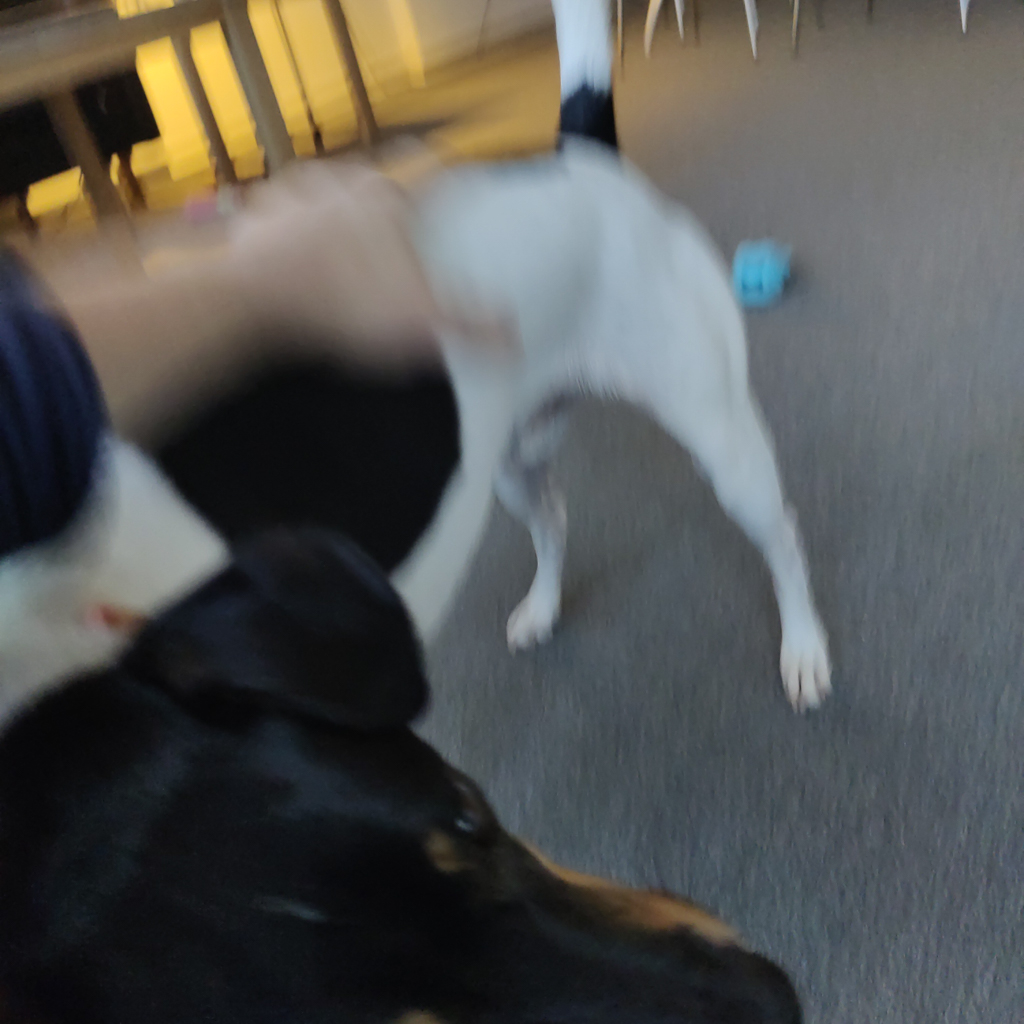Dog: (0, 0, 852, 1024)
Humanoid: (0, 81, 552, 600)
